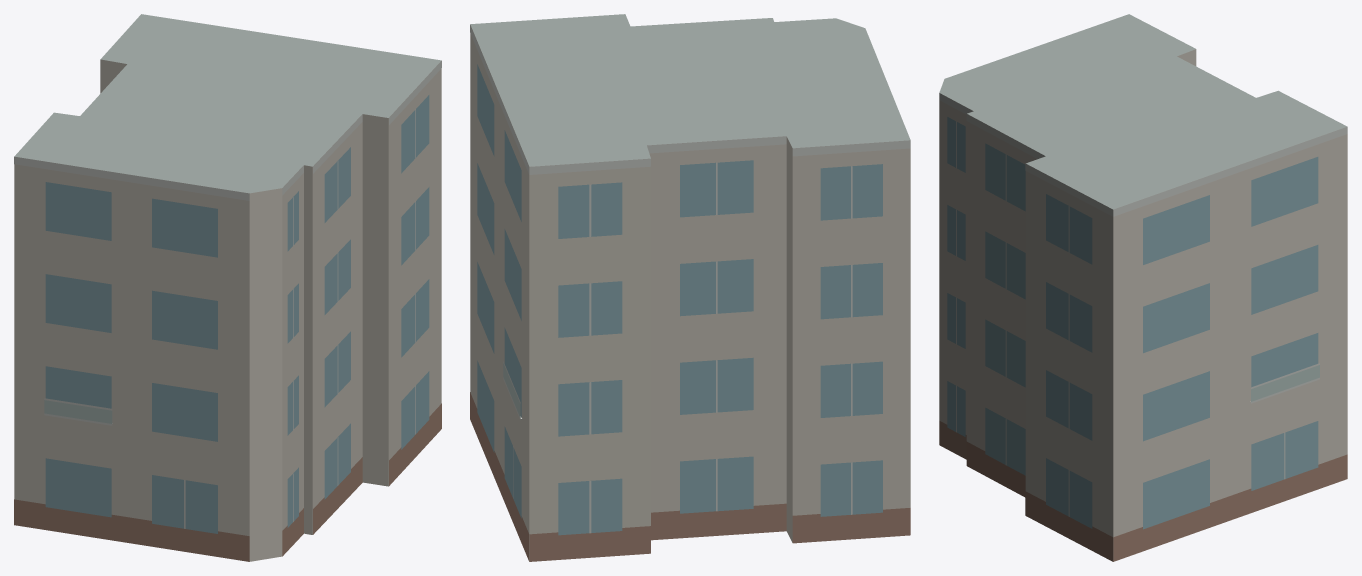
Rendered from survey-upis-32681685.glb.
3 views of the same model, side by side, from view 1: azimuth 30°, elevation 25°; view 2: azimuth 150°, elevation 25°; view 3: azimuth 270°, elevation 25° (orthographic). The views are drawn at different scales.
Parts seen in each view (by area): view 1: survey-upis-32681685.tmp; view 2: survey-upis-32681685.tmp; view 3: survey-upis-32681685.tmp.
Boxes of the visible parts, x1,y1,x2,y2 form: survey-upis-32681685.tmp: (14,14,441,561); survey-upis-32681685.tmp: (470,14,910,561); survey-upis-32681685.tmp: (939,14,1347,561).
Bounding box in the file's own units: 14.04 × 11.78 × 12.39.
